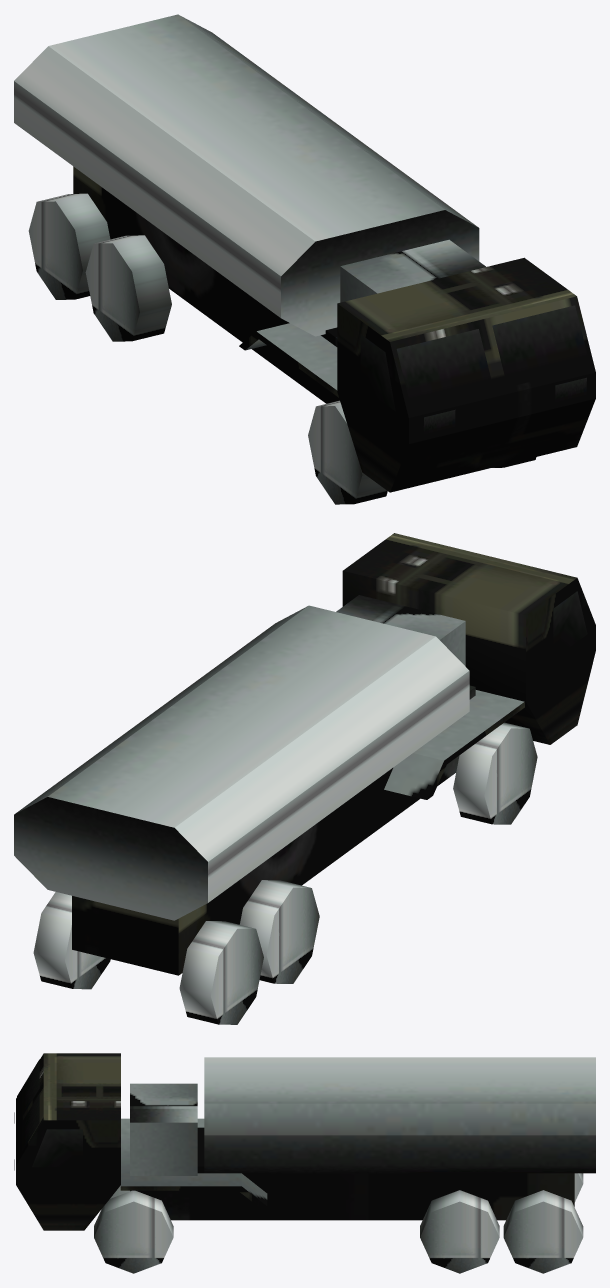
File: HEMMT.DAE
3 renders of one model, top to bottom at view 1: azimuth 30°, elevation 25°; view 2: azimuth 150°, elevation 25°; view 3: azimuth 270°, elevation 25°, orthographic. The views are drawn at different scales.
Visible parts, largest first — view 1: _1117_HEMMT; view 2: _1117_HEMMT; view 3: _1117_HEMMT.
Boxes of the visible parts, x1,y1,x2,y2 form: _1117_HEMMT: (14,14,595,504); _1117_HEMMT: (14,533,595,1024); _1117_HEMMT: (14,1053,595,1273).
Bounding box in the file's own units: 650 × 681 × 2219.
1 material, 1 textured.
